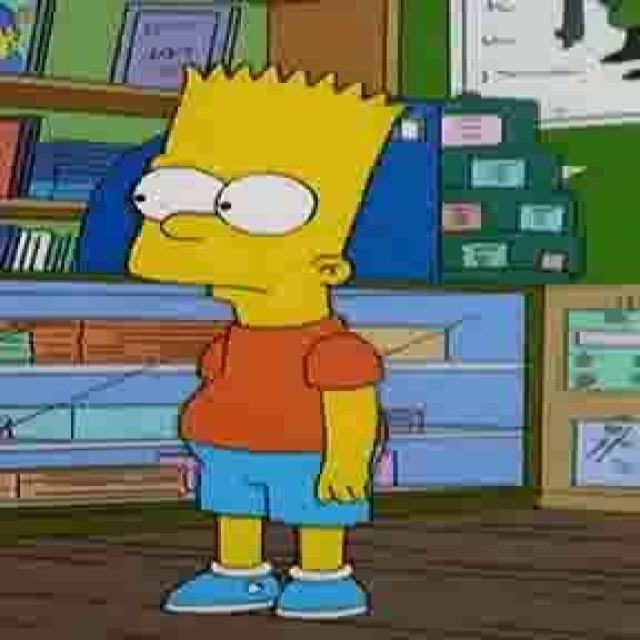Bart Simpson: (122, 58, 416, 330)
